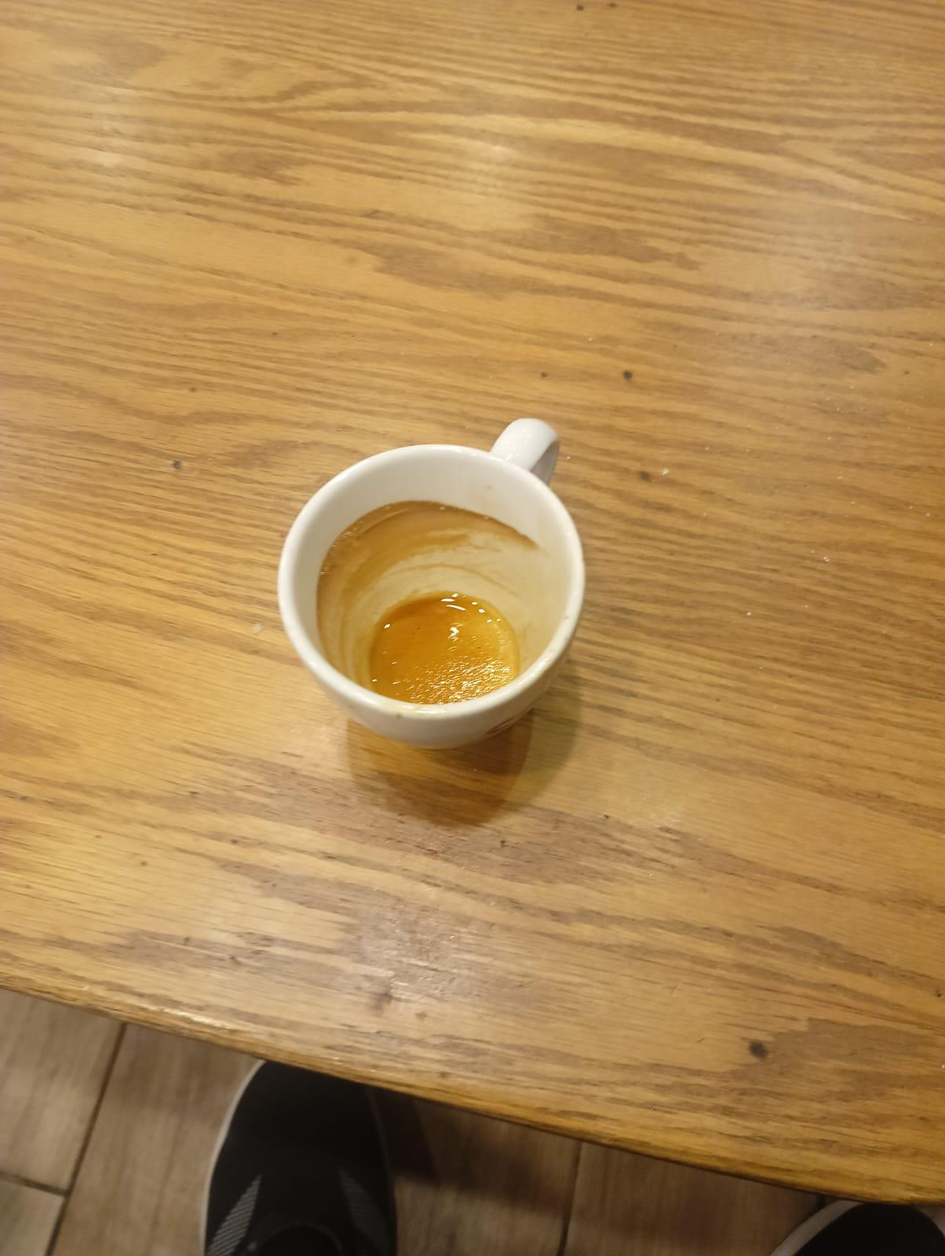cup: (278, 418, 584, 747)
